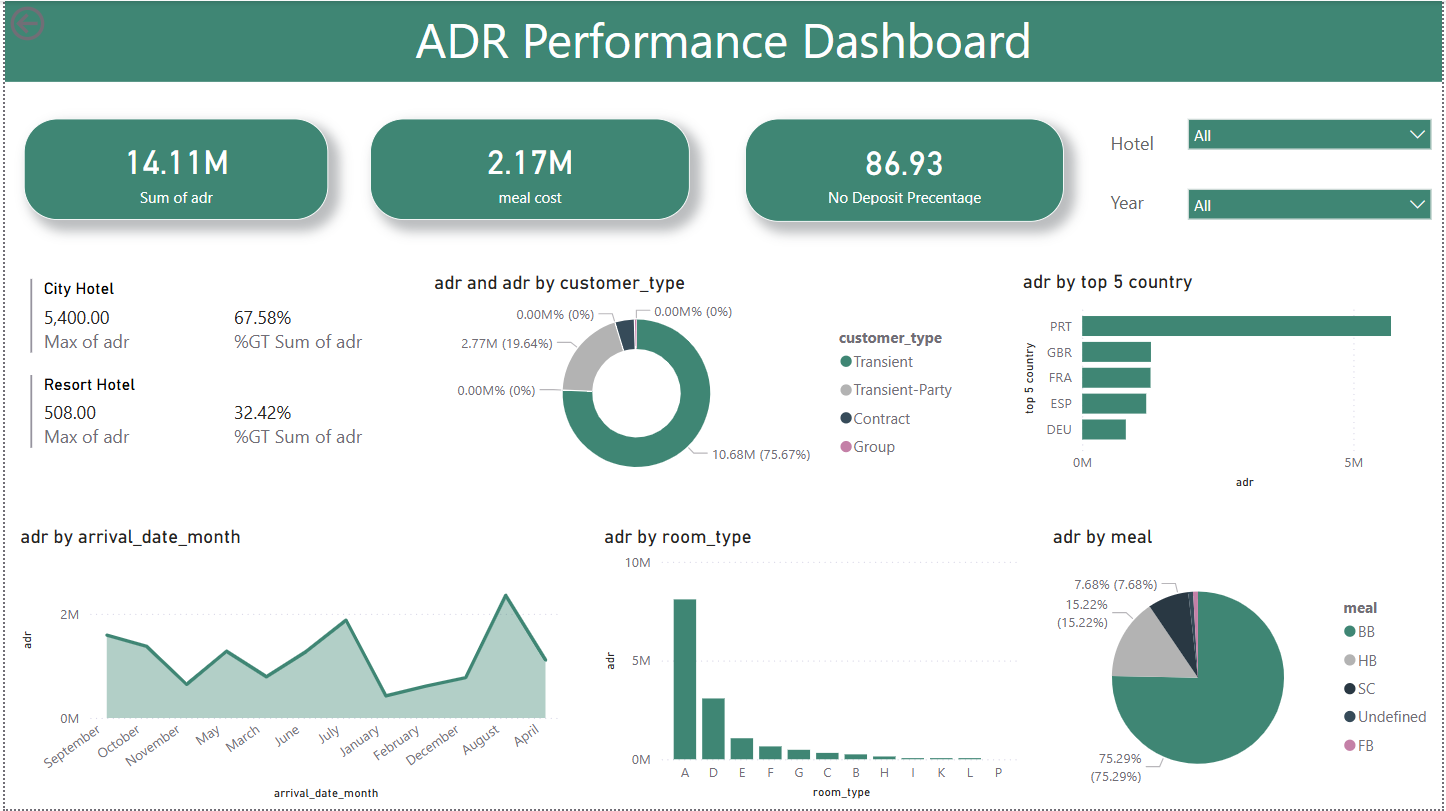

This screenshot's page, from the dashboard's own definition file:
{"tool":"powerbi","page":{"name":"Page 1","canvas":[1280,720],"ordinal":0},"visuals":[{"type":"card","fields":{"Values":["Sum(all years.adr)"]},"box":[16.9,105,271.4,90.5],"z":0},{"type":"textbox","box":[0,0,1280,72.4],"z":1000},{"type":"card","fields":{"Values":["Sum(all years.meal cost)"]},"box":[324.5,105,284.7,90.5],"z":2000},{"type":"multiRowCard","fields":{"Values":["all years.hotel","Max(all years.adr)","Divide(Sum(all years.adr), ScopedEval(Sum(all years.adr), []))"]},"box":[17.4,243,360.5,189.5],"z":3000},{"type":"actionButton","box":[0,0,100,40],"z":4000},{"type":"stackedAreaChart","fields":{"Category":["all years.arrival_date_month"],"Y":["Sum(all years.adr)"]},"box":[9.3,466.3,491.9,250],"z":5000},{"type":"clusteredColumnChart","fields":{"Category":["all years.assigned_room_type"],"Y":["Sum(all years.adr)"]},"box":[529.1,466.3,381.4,248.8],"z":6000},{"type":"pieChart","fields":{"Y":["Sum(all years.adr)"],"Category":["all years.meal"]},"box":[927.9,466.3,352.3,253.5],"z":7000},{"type":"pieChart","fields":{"Category":["all years.customer_type"],"Y":["Sum(all years.adr)","Sum(all years.adr)1"]},"box":[377.9,240.7,480.2,198.8],"z":8000},{"type":"clusteredBarChart","fields":{"Y":["Sum(all years.adr)"],"Category":["all years.country"]},"box":[901.2,239.5,361.6,200],"z":9000},{"type":"slicer","fields":{"Values":["all years.hotel"]},"box":[1043,94.2,237.2,39.5],"z":10000},{"type":"textbox","box":[979.1,110.5,69.8,39.5],"z":11000},{"type":"slicer","fields":{"Values":["all years.year"]},"box":[1043,157,237.2,39.5],"z":12000},{"type":"textbox","box":[979.1,162.8,52.3,33.7],"z":13000},{"type":"card","fields":{"Values":["all years.Refundable Preentage"]},"box":[659.3,104.7,283.7,91.9],"z":14000}]}

Visuals, with their boxes in screenshot pixels (x1, y1, x2, y2), scaled from the page's 1280x720 canvas onto the 1446x811 screenshot:
card - Sum(all years.adr): l=19, t=118, r=326, b=220
textbox: l=0, t=0, r=1445, b=82
card - Sum(all years.meal cost): l=367, t=118, r=688, b=220
multiRowCard - all years.hotel x Max(all years.adr): l=20, t=274, r=427, b=487
actionButton: l=0, t=0, r=113, b=45
stackedAreaChart - all years.arrival_date_month x Sum(all years.adr): l=11, t=525, r=566, b=807
clusteredColumnChart - all years.assigned_room_type x Sum(all years.adr): l=598, t=525, r=1029, b=805
pieChart - Sum(all years.adr) x all years.meal: l=1048, t=525, r=1445, b=810
pieChart - all years.customer_type x Sum(all years.adr): l=427, t=271, r=969, b=495
clusteredBarChart - Sum(all years.adr) x all years.country: l=1018, t=270, r=1427, b=495
slicer - all years.hotel: l=1178, t=106, r=1445, b=151
textbox: l=1106, t=124, r=1185, b=169
slicer - all years.year: l=1178, t=177, r=1445, b=221
textbox: l=1106, t=183, r=1165, b=221
card - all years.Refundable Preentage: l=745, t=118, r=1065, b=221
